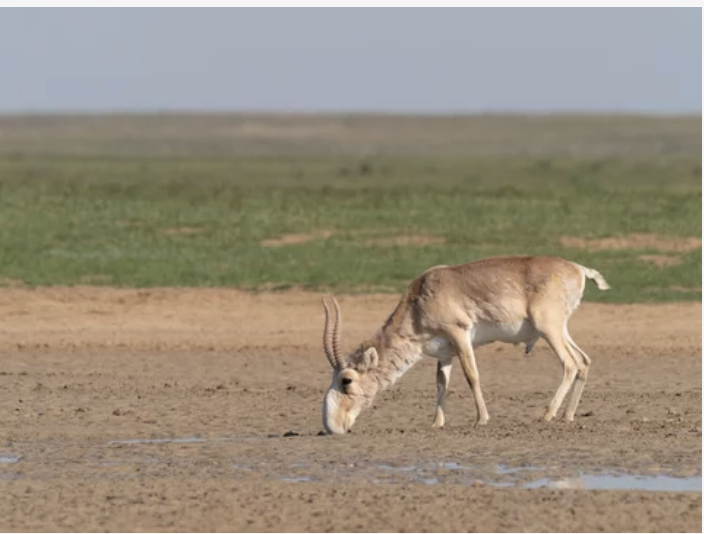saiga: (312, 248, 650, 438)
